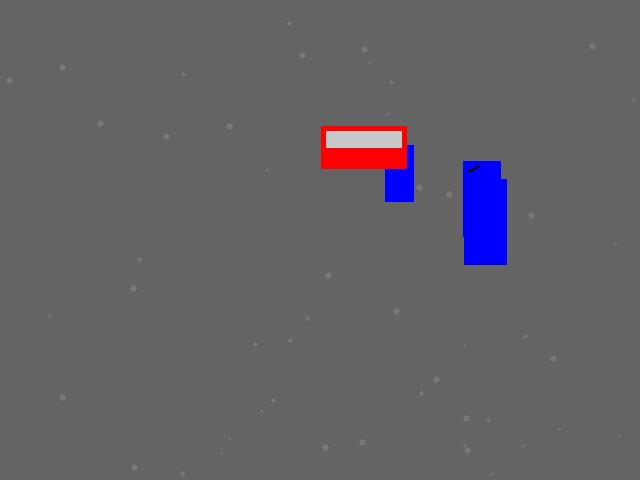car: (321, 126, 406, 168)
motorcycle: (464, 179, 506, 264), (463, 161, 500, 236), (385, 145, 413, 201)
